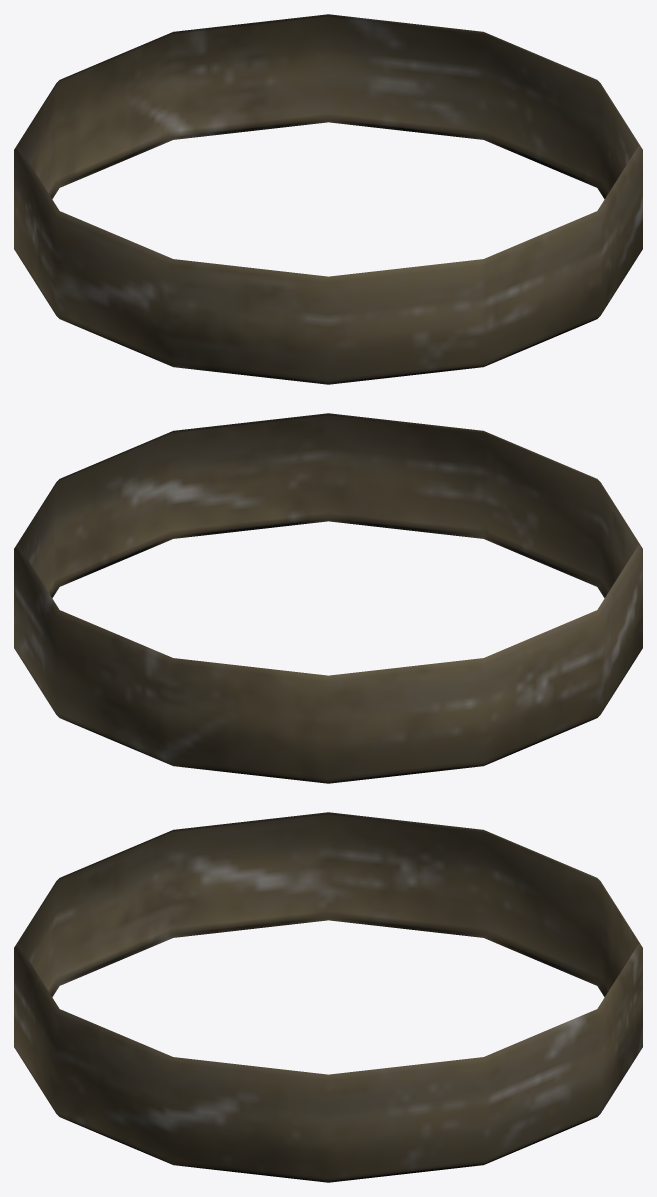
File: NM_BigTube_Connector_04.fbx
The picture shows the model from 3 angles, top to bottom: view 1: azimuth 30°, elevation 25°; view 2: azimuth 150°, elevation 25°; view 3: azimuth 270°, elevation 25°; orthographic projection.
Parts seen in each view (by area): view 1: Connector_01_low009; view 2: Connector_01_low009; view 3: Connector_01_low009.
Part boxes in pixels (x1,y1,x2,y2): Connector_01_low009: (14, 14, 642, 384); Connector_01_low009: (14, 413, 642, 783); Connector_01_low009: (14, 812, 642, 1182).
Size of the model in its own units: 31 by 5.88 by 31.
